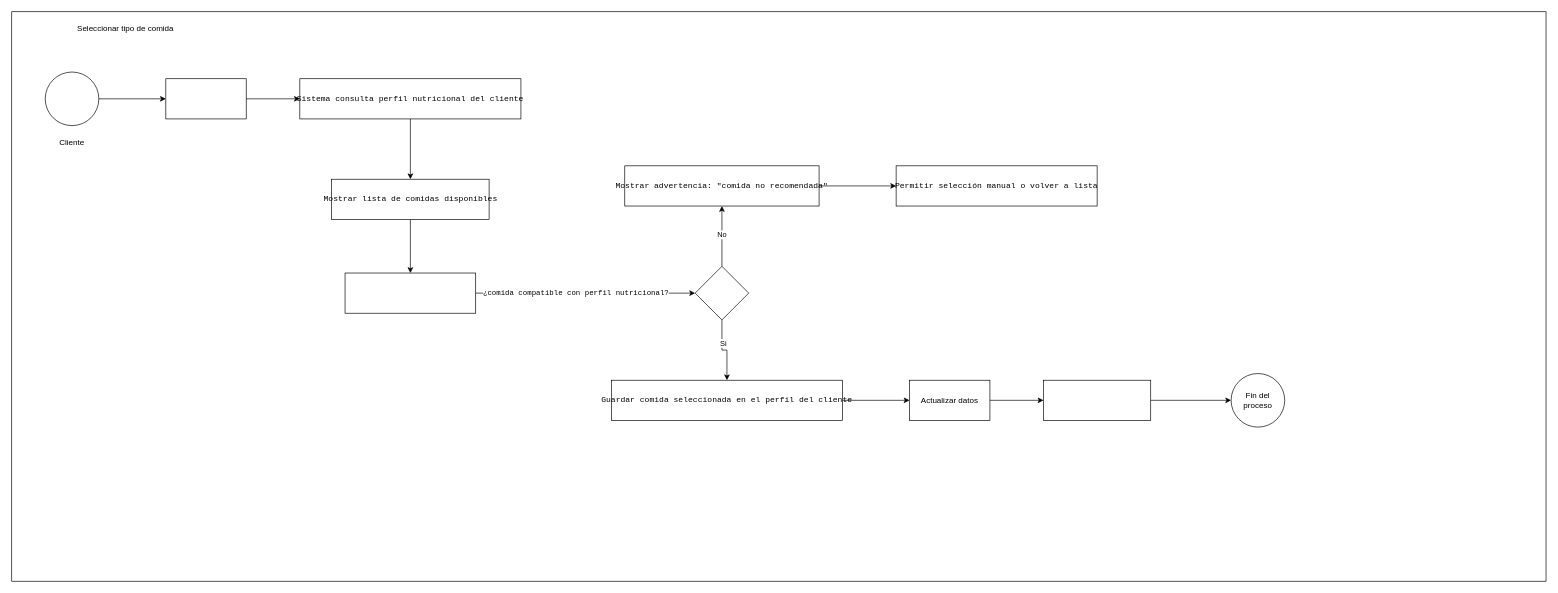
The diagram is 1558 pixels wide and 593 high, and some of its shapes have lost their labels. The centre of each missing label's shape, as x and y in pixels:
"Cliente selecciona una comida" belongs at point (410, 292).
"Inicio" belongs at point (205, 98).
"Mostrar mensaje de éxito" belongs at point (1097, 400).
